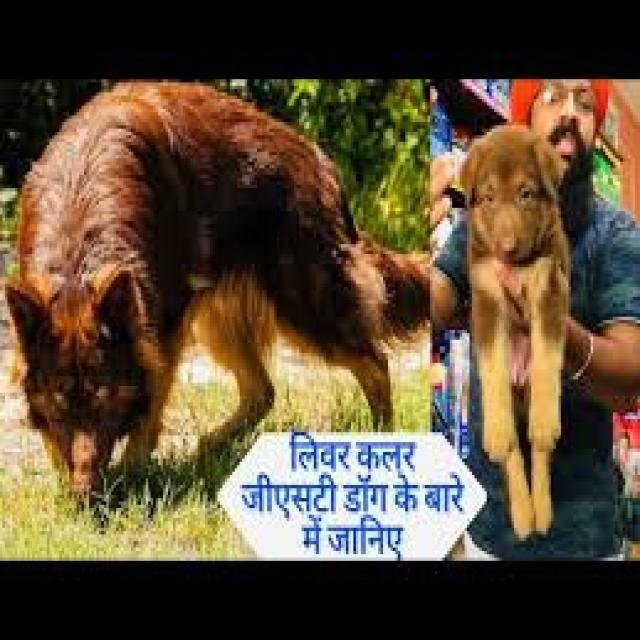Dog: (3, 112, 212, 500), (457, 124, 562, 546)
